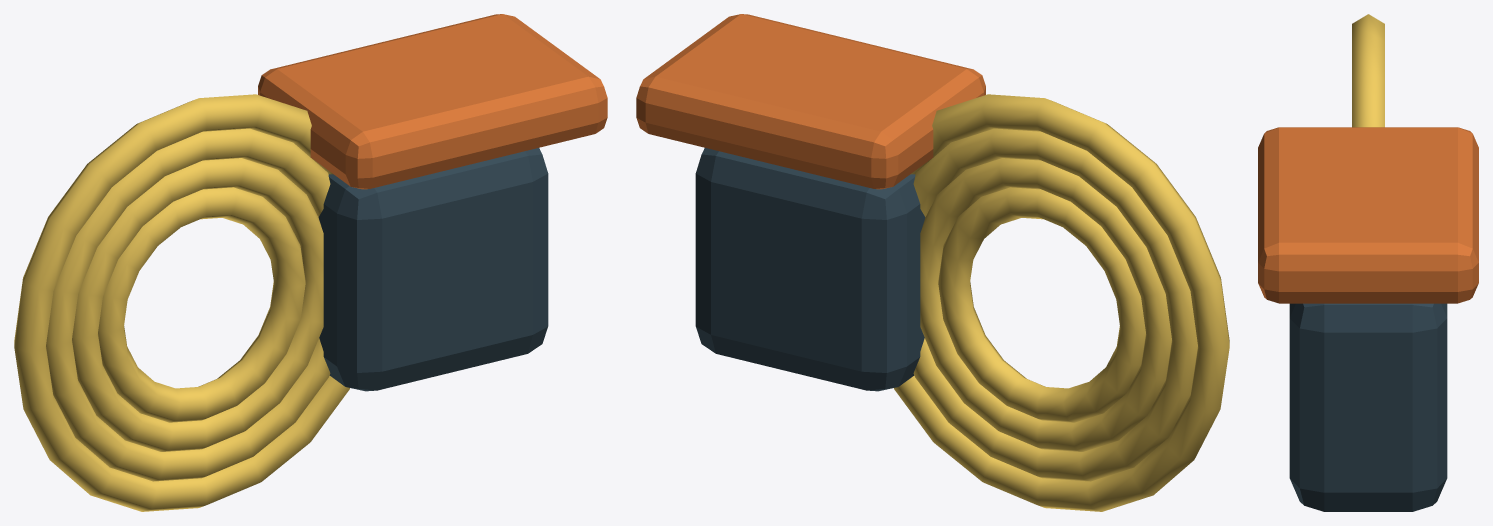
File: strap.glb
The picture shows the model from 3 angles, left to right: view 1: azimuth 30°, elevation 25°; view 2: azimuth 150°, elevation 25°; view 3: azimuth 270°, elevation 25°; orthographic projection. The views are drawn at different scales.
Parts seen in each view (by area): view 1: tyaga-strap-surface; view 2: tyaga-strap-surface; view 3: tyaga-strap-surface.
Part boxes in pixels (x1,y1,x2,y2): tyaga-strap-surface: [14, 14, 607, 511]; tyaga-strap-surface: [636, 14, 1229, 511]; tyaga-strap-surface: [1258, 14, 1478, 511].
Size of the model in its own units: 0.42 by 0.3 by 0.14.
